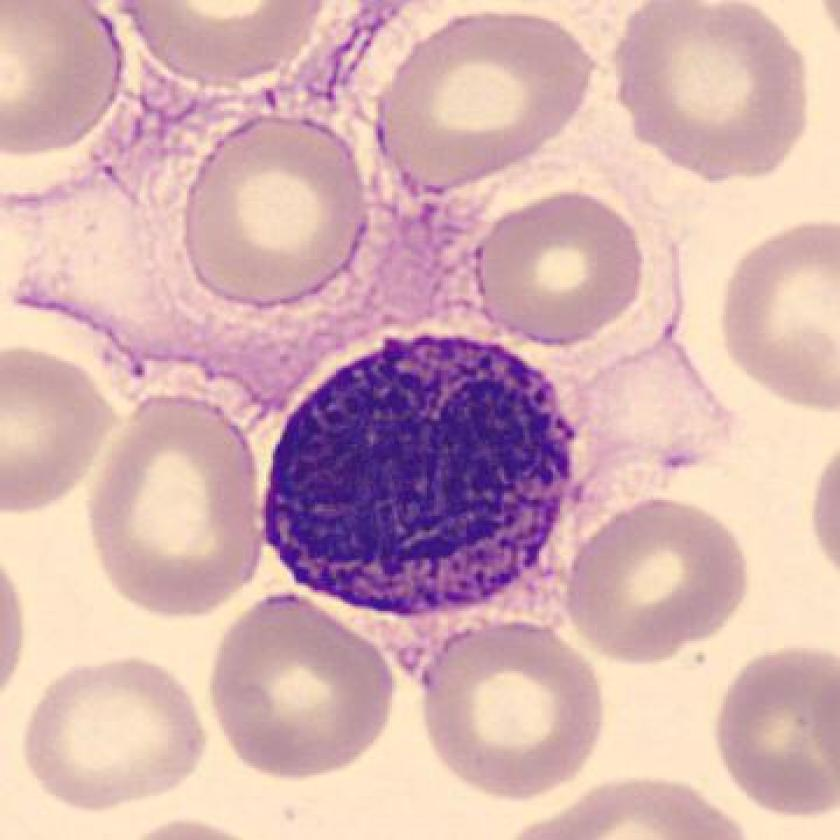basophil: (255, 334, 582, 617)
